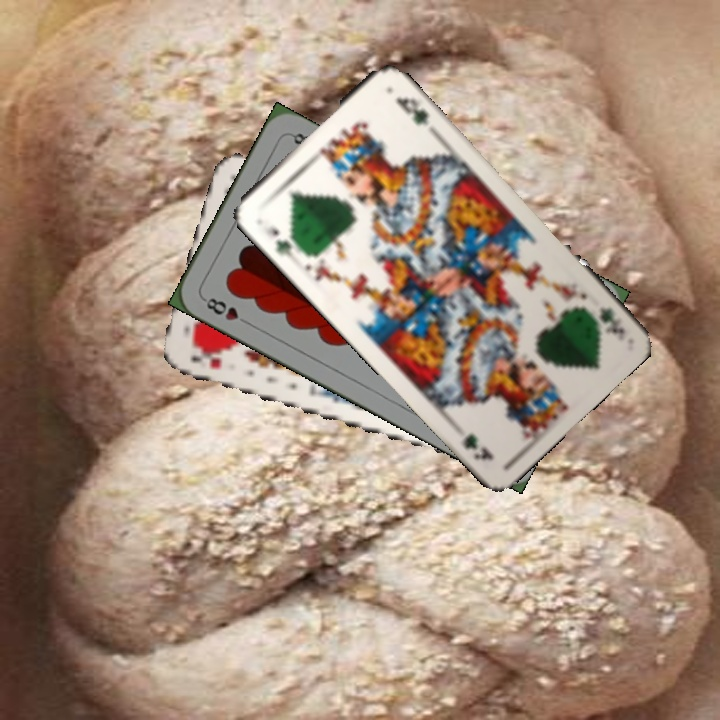GK: (261, 221, 302, 260), (595, 303, 627, 337)
H8: (199, 293, 253, 328)
HK: (186, 348, 225, 372)
